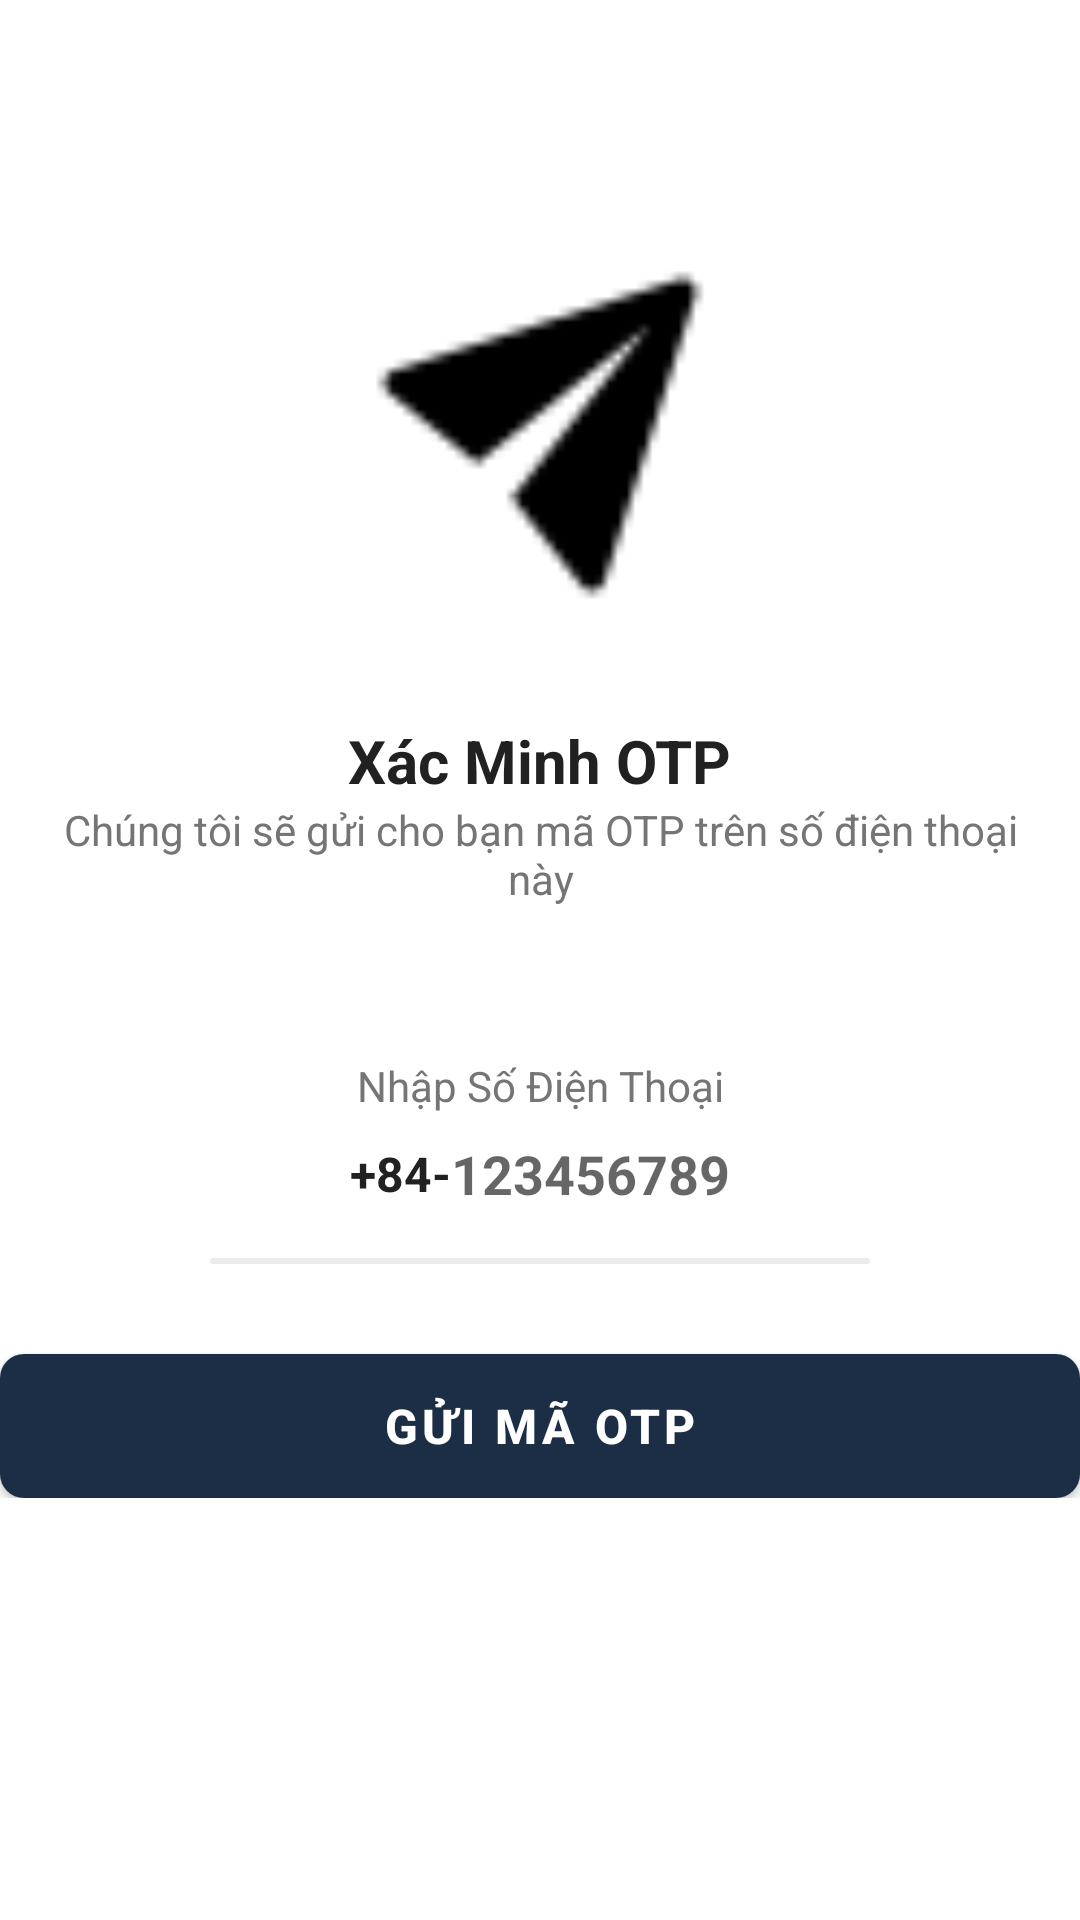

Icon bounding boxes for this 1080 x 1920 phone screenshot, format (x1,y1,x2,y2):
send otp: (377,272,703,598)
